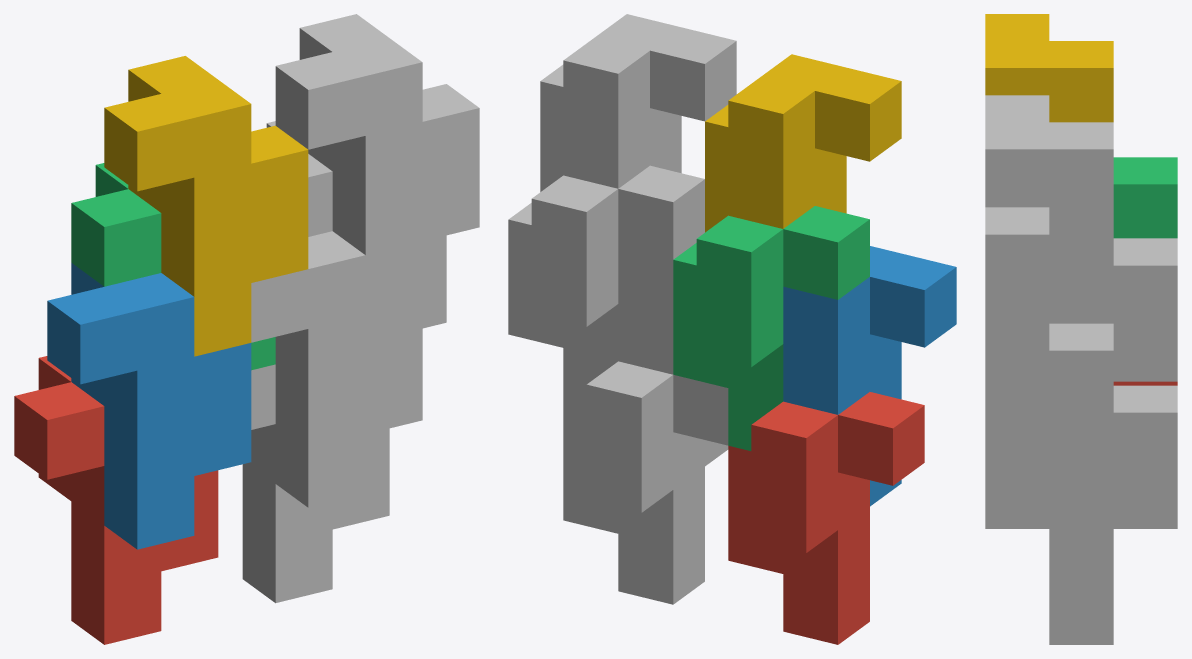
The model's file is tiling.obj.
3 views of the same model, side by side, from view 1: azimuth 30°, elevation 25°; view 2: azimuth 150°, elevation 25°; view 3: azimuth 270°, elevation 25° (orthographic). The views are drawn at different scales.
Visible parts, largest first — view 1: copy_1_domain_4, copy_1_domain_8, copy_1_domain_2, copy_1_domain_6, copy_1_domain_1, copy_1_domain_5, copy_1_domain_3, copy_1_domain_7; view 2: copy_1_domain_1, copy_1_domain_5, copy_1_domain_3, copy_1_domain_7, copy_1_domain_4, copy_1_domain_8, copy_1_domain_2, copy_1_domain_6; view 3: copy_1_domain_8, copy_1_domain_7, copy_1_domain_5, copy_1_domain_4, copy_1_domain_6, copy_1_domain_3, copy_1_domain_1.
Part boxes in pixels (x1=…): copy_1_domain_4: x1=104, y1=56, x2=308, y2=356; copy_1_domain_8: x1=275, y1=14, x2=479, y2=314; copy_1_domain_2: x1=47, y1=263, x2=251, y2=549; copy_1_domain_6: x1=251, y1=231, x2=422, y2=507; copy_1_domain_1: x1=14, y1=356, x2=218, y2=644; copy_1_domain_5: x1=242, y1=364, x2=389, y2=603; copy_1_domain_3: x1=71, y1=163, x2=275, y2=370; copy_1_domain_7: x1=266, y1=121, x2=446, y2=328; copy_1_domain_1: x1=728, y1=392, x2=924, y2=644; copy_1_domain_5: x1=563, y1=361, x2=728, y2=604; copy_1_domain_3: x1=673, y1=206, x2=869, y2=450; copy_1_domain_7: x1=508, y1=165, x2=704, y2=410; copy_1_domain_4: x1=705, y1=54, x2=901, y2=232; copy_1_domain_8: x1=540, y1=14, x2=736, y2=191; copy_1_domain_2: x1=783, y1=246, x2=956, y2=506; copy_1_domain_6: x1=618, y1=246, x2=728, y2=466; copy_1_domain_8: x1=985, y1=95, x2=1113, y2=381; copy_1_domain_7: x1=1049, y1=238, x2=1177, y2=497; copy_1_domain_5: x1=1049, y1=385, x2=1177, y2=644; copy_1_domain_4: x1=985, y1=14, x2=1113, y2=122; copy_1_domain_6: x1=985, y1=381, x2=1049, y2=528; copy_1_domain_3: x1=1113, y1=157, x2=1177, y2=238; copy_1_domain_1: x1=1113, y1=381, x2=1177, y2=385.
Size of the model in its own units: 7 by 9 by 3.
